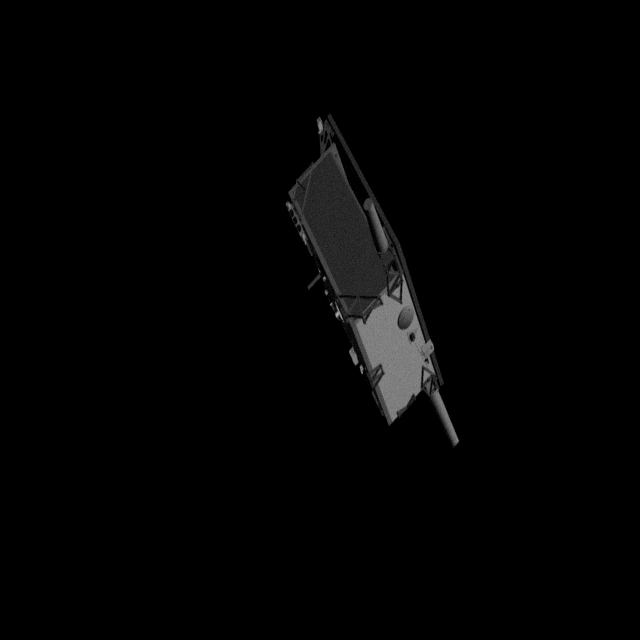satellite: (280, 112, 470, 462)
